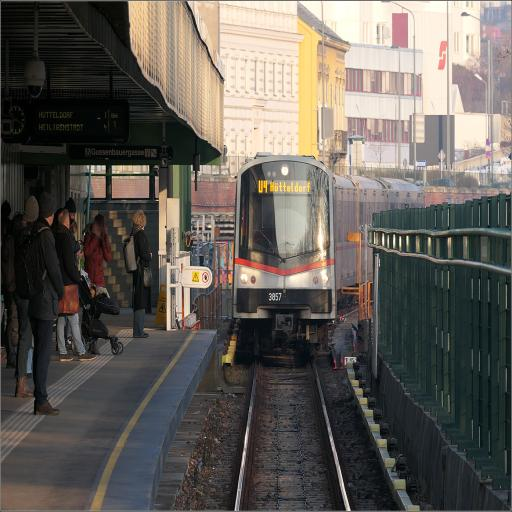V-Wagen: (235, 150, 425, 331)
